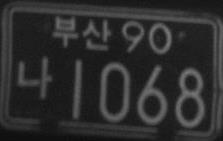0: (98, 61, 131, 123), (148, 21, 172, 54)
1: (63, 59, 95, 119)
6: (137, 65, 168, 125)
8: (175, 66, 205, 129)
9: (121, 19, 145, 53)
나: (18, 55, 52, 99)
부산_O: (52, 15, 111, 51)
